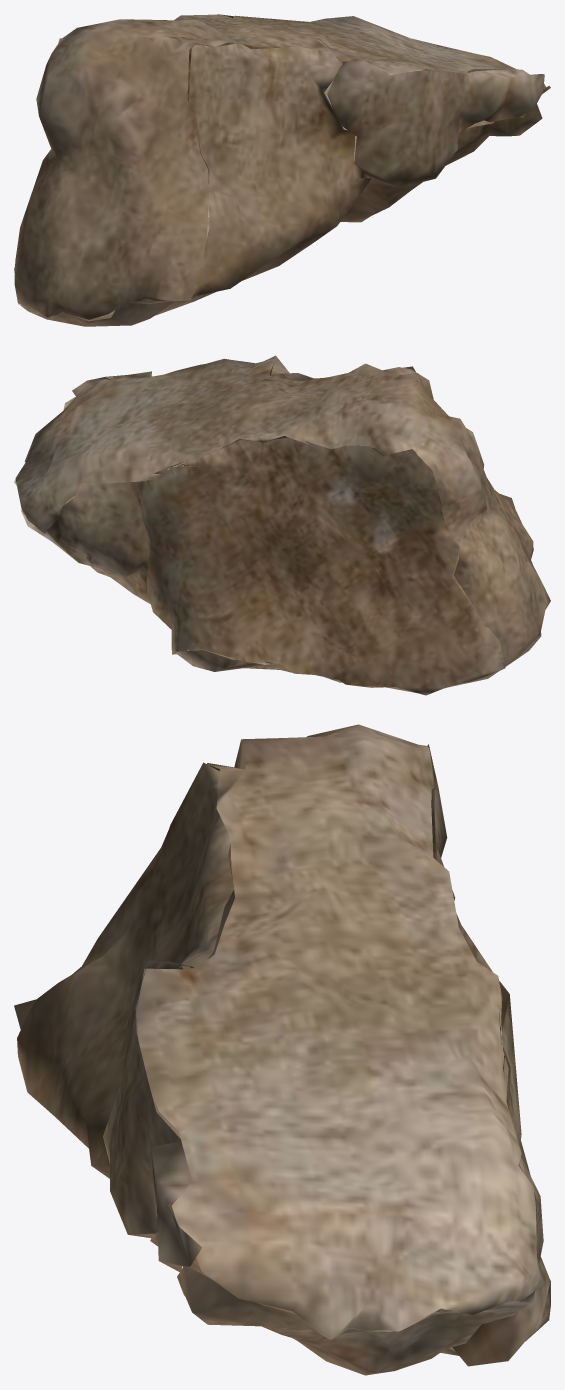
The model's file is namaqualand_stones_01_v2.glb.
The picture shows the model from 3 angles, top to bottom: view 1: azimuth 30°, elevation 25°; view 2: azimuth 150°, elevation 25°; view 3: azimuth 270°, elevation 25°; orthographic projection. The views are drawn at different scales.
Visible parts, largest first — view 1: lod0; view 2: lod0; view 3: lod0.
Boxes of the visible parts, x1=… form: lod0: x1=14, y1=14, x2=550, y2=326; lod0: x1=14, y1=355, x2=550, y2=695; lod0: x1=14, y1=724, x2=550, y2=1375.
Size of what is drawn, in the model's own units: 0.15 by 0.0846 by 0.0797.
1 material, 1 textured.
